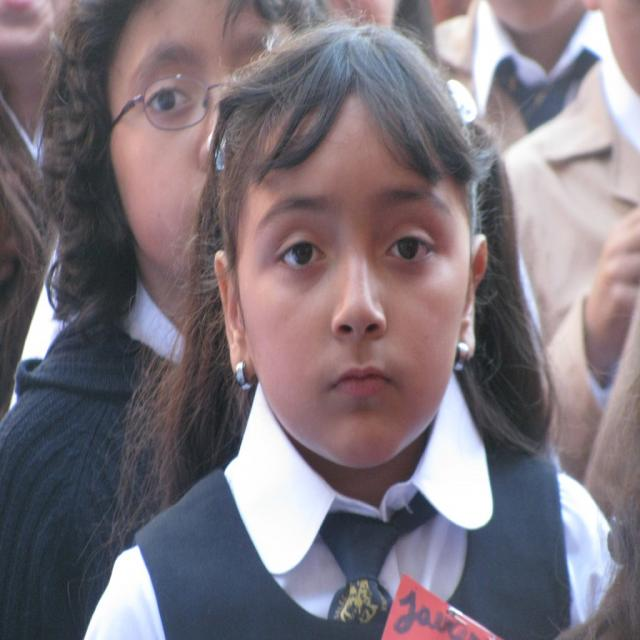Glasses: (106, 74, 232, 132)
